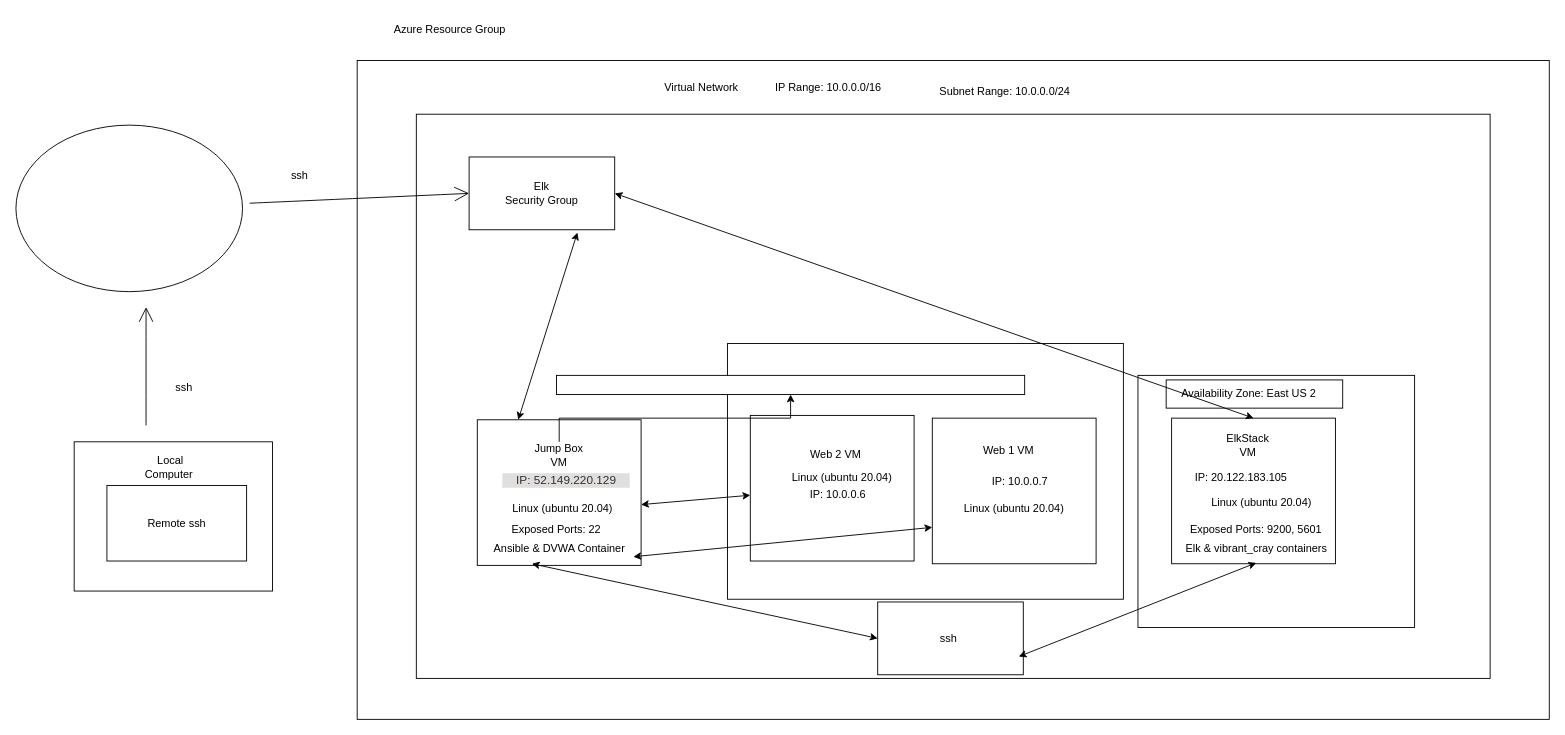
Image size: 1565x735. Some labels were removed from this diagram. Each missing label, with the centre of its shape:
Availability Zone: East US: point 790,384
Internet: point 129,208
